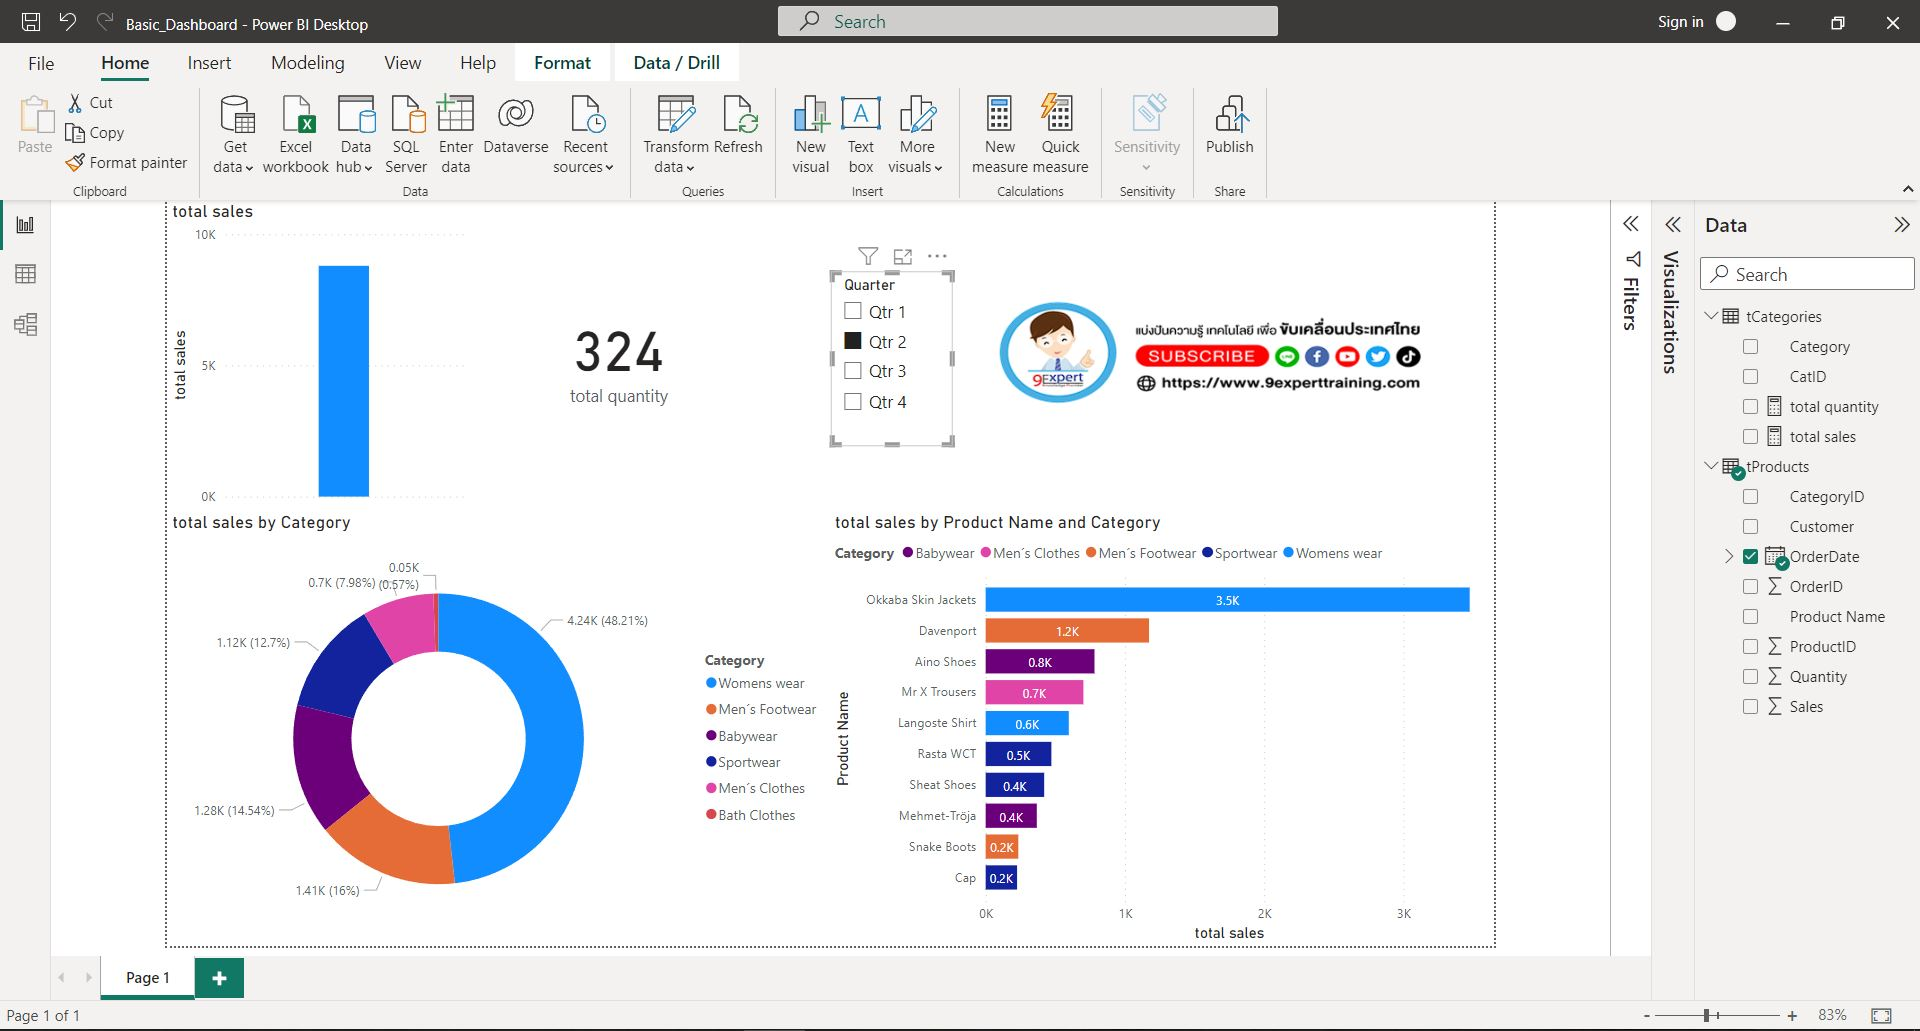

This screenshot's page, from the dashboard's own definition file:
{"tool":"powerbi","page":{"name":"Page 1","canvas":[1280,720],"ordinal":0},"visuals":[{"type":"columnChart","fields":{"Y":["tCategories.total sales"]},"box":[0,0,291.9,300.3],"z":0},{"type":"card","fields":{"Values":["tCategories.total quantity"]},"box":[291.9,0,288.2,300.3],"z":1000},{"type":"donutChart","fields":{"Y":["tCategories.total sales"],"Category":["tCategories.Category"]},"box":[0,300.5,640.8,419.9],"z":2000},{"type":"slicer","fields":{"Values":["tProducts.OrderDate.Variation.Date Hierarchy.Quarter"]},"box":[640.8,68.6,118,168.8],"z":3000},{"type":"barChart","fields":{"Category":["tProducts.Product Name"],"Y":["tCategories.total sales"],"Series":["tCategories.Category"]},"box":[639.5,300.5,640.8,419.9],"z":4000},{"type":"image","box":[759,69,521,169],"z":5000}]}

Visuals, with their boxes on the page's 1280x720 design canvas (x1, y1, x2, y2). These are canvas units, not pixel positions in the 1920x1031 screenshot, which may show the page scaled, cropped or inside an application window:
columnChart - tCategories.total sales: {"x1": 0, "y1": 0, "x2": 292, "y2": 300}
card - tCategories.total quantity: {"x1": 292, "y1": 0, "x2": 580, "y2": 300}
donutChart - tCategories.total sales x tCategories.Category: {"x1": 0, "y1": 300, "x2": 641, "y2": 720}
slicer - tProducts.OrderDate.Variation.Date Hierarchy.Quarter: {"x1": 641, "y1": 69, "x2": 759, "y2": 237}
barChart - tProducts.Product Name x tCategories.total sales: {"x1": 640, "y1": 300, "x2": 1280, "y2": 720}
image: {"x1": 759, "y1": 69, "x2": 1280, "y2": 238}
